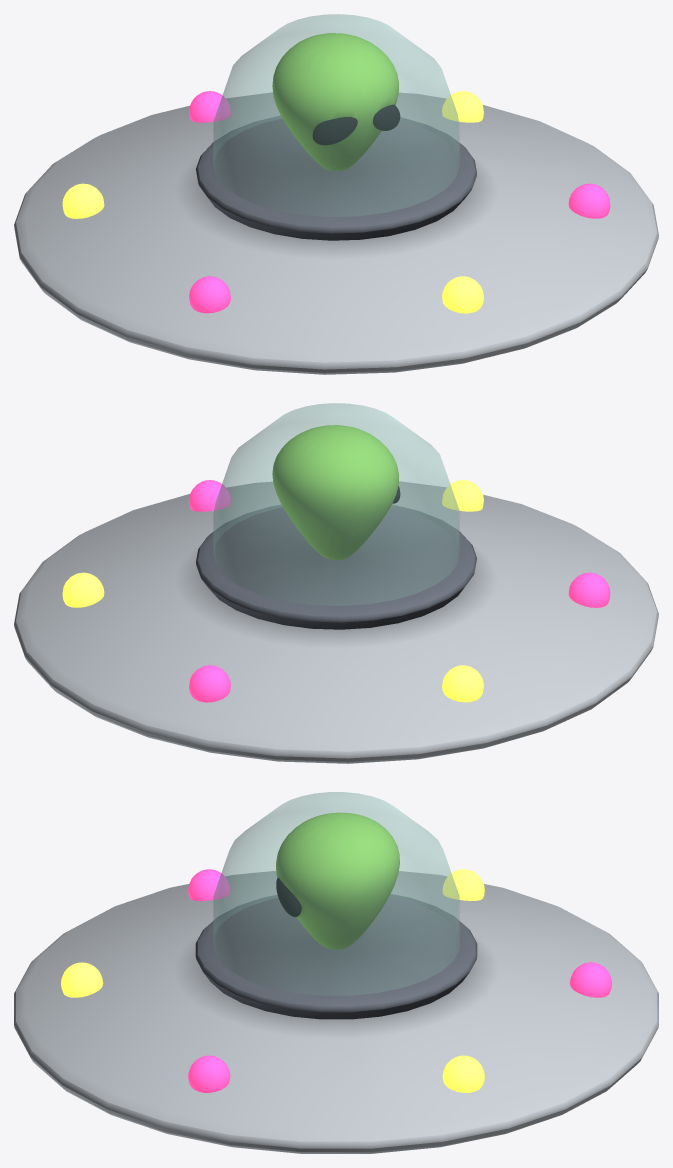
File: alien_crab.glb
3 renders of one model, top to bottom at view 1: azimuth 30°, elevation 25°; view 2: azimuth 150°, elevation 25°; view 3: azimuth 270°, elevation 25°, orthographic.
Visible parts, largest first — view 1: hull, dome, deck, skull, bulb.003, bulb.004, bulb.005, bulb.002, bulb.001, bulb, eye, eye.001; view 2: hull, dome, deck, skull, bulb, bulb.005, bulb.004, bulb.001, bulb.002, bulb.003; view 3: hull, dome, deck, skull, bulb.001, bulb.002, bulb, bulb.003, bulb.004, bulb.005, eye.001.
Part boxes in pixels (x1,y1,x2,y2): hull: [14, 92, 658, 374]; dome: [213, 14, 459, 216]; deck: [196, 115, 476, 240]; skull: [272, 33, 398, 170]; bulb.003: [442, 276, 483, 313]; bulb.004: [189, 276, 230, 313]; bulb.005: [62, 183, 104, 218]; bulb.002: [568, 183, 610, 218]; bulb.001: [442, 91, 483, 122]; bulb: [189, 91, 230, 122]; eye: [312, 117, 357, 145]; eye.001: [373, 104, 400, 130]; hull: [14, 481, 658, 763]; dome: [213, 403, 459, 605]; deck: [196, 504, 476, 629]; skull: [272, 425, 398, 559]; bulb: [189, 665, 230, 702]; bulb.005: [442, 665, 483, 702]; bulb.004: [568, 572, 610, 607]; bulb.001: [62, 572, 104, 607]; bulb.002: [189, 480, 230, 511]; bulb.003: [442, 480, 483, 511]; hull: [14, 871, 658, 1153]; dome: [213, 792, 459, 995]; deck: [195, 894, 477, 1019]; skull: [276, 812, 399, 949]; bulb.001: [442, 1055, 484, 1092]; bulb.002: [188, 1055, 230, 1092]; bulb: [569, 962, 611, 997]; bulb.003: [61, 962, 103, 997]; bulb.004: [188, 869, 230, 900]; bulb.005: [442, 869, 484, 900]; eye.001: [276, 877, 301, 916].
Size of the model in its own units: 1.68 by 0.8415 by 1.68.
